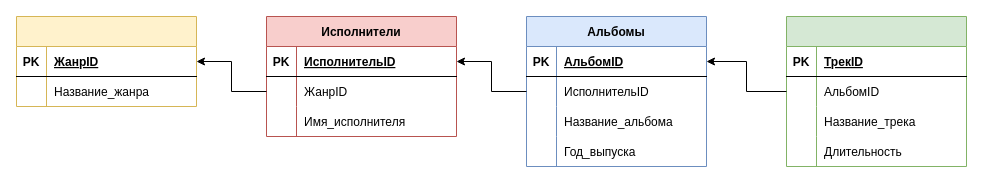
This 983x183 diagram has some shape labels left out. Each missing label, with the box of its shape:
Жанры: (16, 16, 196, 106)
Треки: (786, 16, 966, 166)
